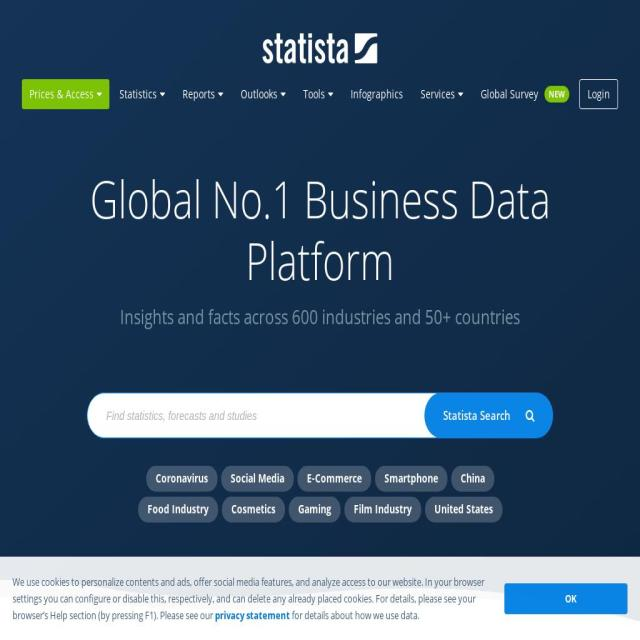button: (424, 392, 554, 438), (504, 583, 628, 614), (262, 34, 378, 64), (473, 79, 577, 109), (22, 79, 109, 109), (138, 496, 218, 522), (424, 496, 502, 522), (344, 496, 421, 522), (220, 465, 294, 492), (297, 465, 371, 492), (374, 465, 448, 492), (146, 465, 218, 492), (112, 79, 172, 109), (413, 79, 471, 109), (175, 79, 231, 109), (221, 496, 285, 522), (288, 496, 341, 522), (450, 465, 494, 492)
field: (87, 392, 462, 438), (580, 79, 618, 109)
heading: (12, 167, 628, 291), (12, 298, 628, 334)
image: (0, 580, 640, 622), (262, 34, 378, 64)
link: (351, 79, 403, 109), (215, 608, 290, 622)
text: (12, 574, 484, 623), (29, 79, 94, 109), (290, 608, 419, 622), (481, 79, 538, 109), (443, 406, 513, 423), (119, 79, 157, 109), (240, 79, 278, 109), (421, 79, 455, 109), (183, 79, 215, 109), (303, 79, 325, 109), (544, 86, 570, 102)
